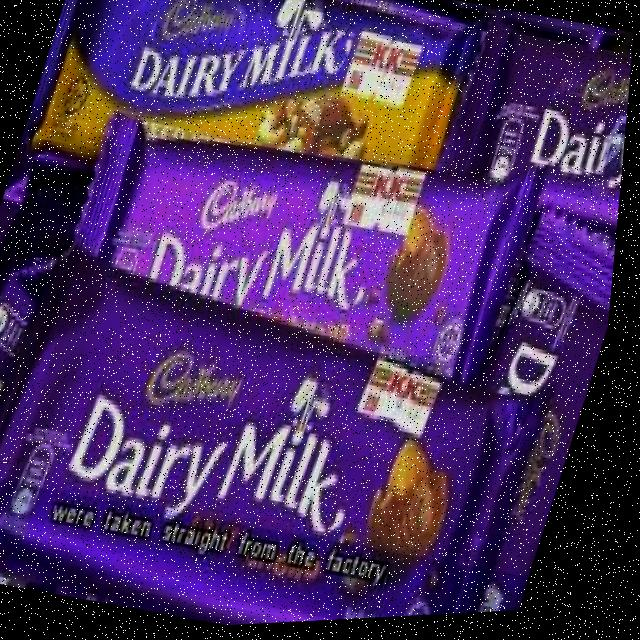cadbury: (0, 232, 581, 640), (37, 85, 557, 440), (8, 0, 499, 272), (440, 22, 637, 235)
